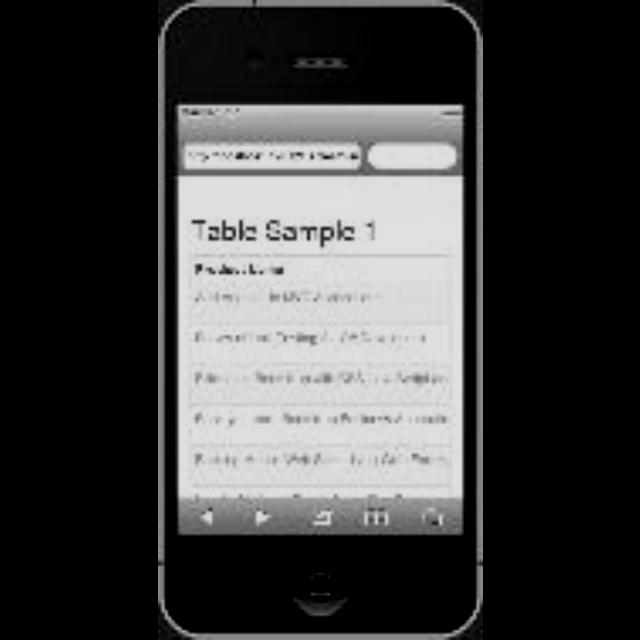fake: (166, 0, 479, 614)
